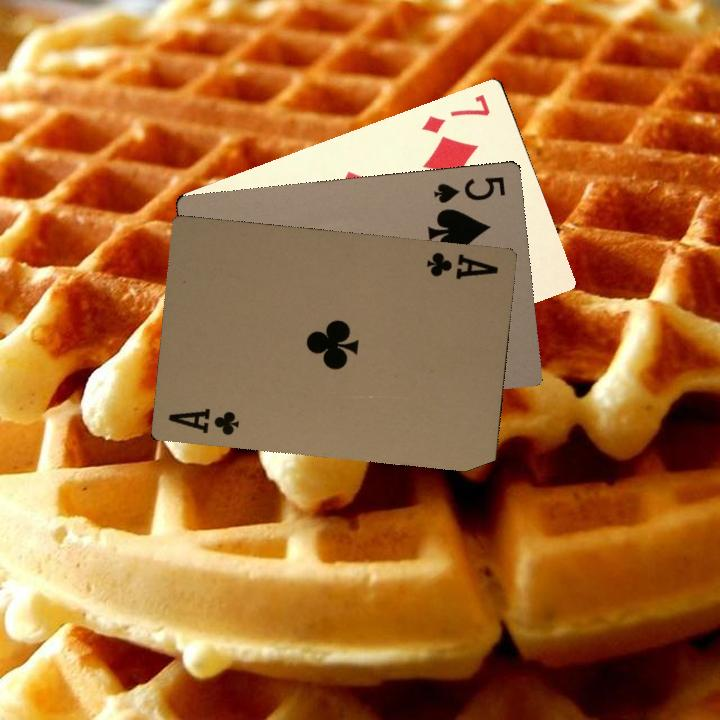5s: (430, 172, 507, 206)
7d: (418, 90, 493, 136)
Ac: (422, 248, 501, 282), (164, 404, 242, 438)
